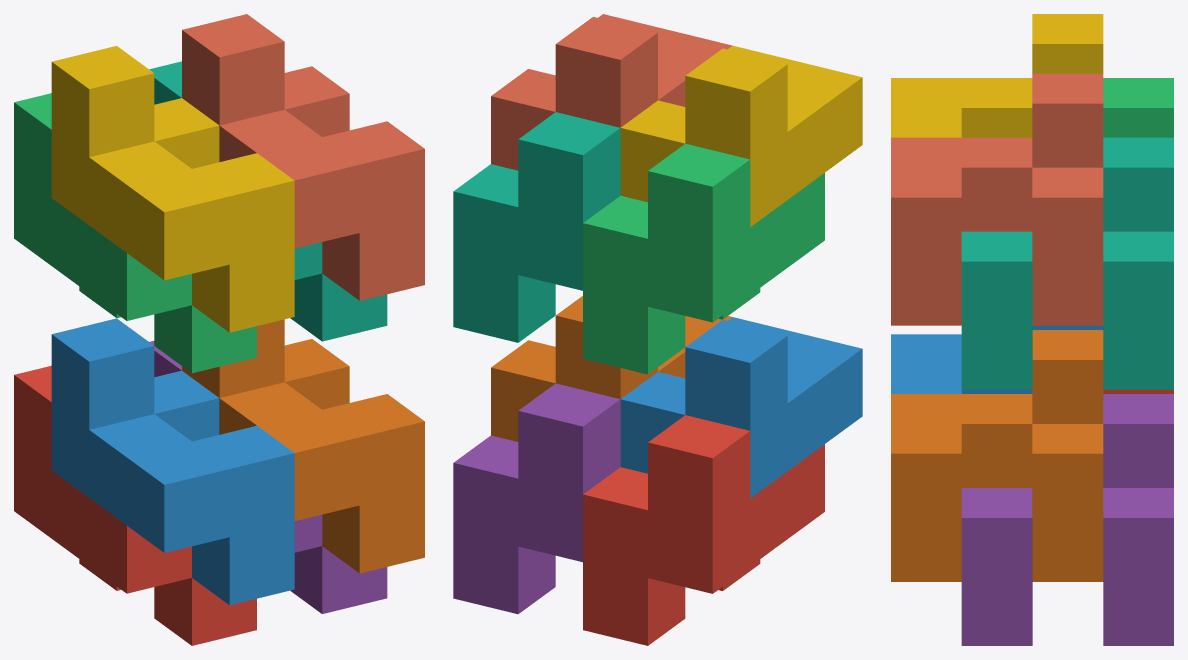
The model's file is tiling.obj.
The picture shows the model from 3 angles, left to right: view 1: azimuth 30°, elevation 25°; view 2: azimuth 150°, elevation 25°; view 3: azimuth 270°, elevation 25°; orthographic projection. The views are drawn at different scales.
Parts seen in each view (by area): view 1: copy_1_domain_2, copy_1_domain_4, copy_1_domain_8, copy_1_domain_6, copy_1_domain_1, copy_1_domain_3, copy_1_domain_7, copy_1_domain_5; view 2: copy_1_domain_1, copy_1_domain_3, copy_1_domain_5, copy_1_domain_7, copy_1_domain_4, copy_1_domain_2, copy_1_domain_8, copy_1_domain_6; view 3: copy_1_domain_8, copy_1_domain_6, copy_1_domain_7, copy_1_domain_5, copy_1_domain_4, copy_1_domain_2, copy_1_domain_3.
Part boxes in pixels (box(x1,y1,x2,y2)): copy_1_domain_2: box(51, 318, 294, 605); copy_1_domain_4: box(51, 46, 294, 332); copy_1_domain_8: box(182, 14, 424, 300); copy_1_domain_6: box(182, 319, 424, 573); copy_1_domain_1: box(14, 365, 256, 645); copy_1_domain_3: box(14, 93, 256, 373); copy_1_domain_7: box(149, 61, 387, 341); copy_1_domain_5: box(149, 341, 387, 613); copy_1_domain_1: box(583, 415, 824, 645); copy_1_domain_3: box(583, 143, 824, 374); copy_1_domain_5: box(453, 383, 620, 614); copy_1_domain_7: box(453, 112, 620, 342); copy_1_domain_4: box(620, 45, 862, 226); copy_1_domain_2: box(620, 317, 862, 498); copy_1_domain_8: box(491, 14, 732, 170); copy_1_domain_6: box(491, 296, 732, 441); copy_1_domain_8: box(891, 73, 1103, 325); copy_1_domain_6: box(891, 330, 1103, 581); copy_1_domain_7: box(961, 137, 1173, 389); copy_1_domain_5: box(961, 394, 1173, 645); copy_1_domain_4: box(891, 14, 1103, 137); copy_1_domain_2: box(891, 325, 1103, 393); copy_1_domain_3: box(1103, 78, 1173, 137).
Size of the model in its own units: 4 by 8 by 4.
